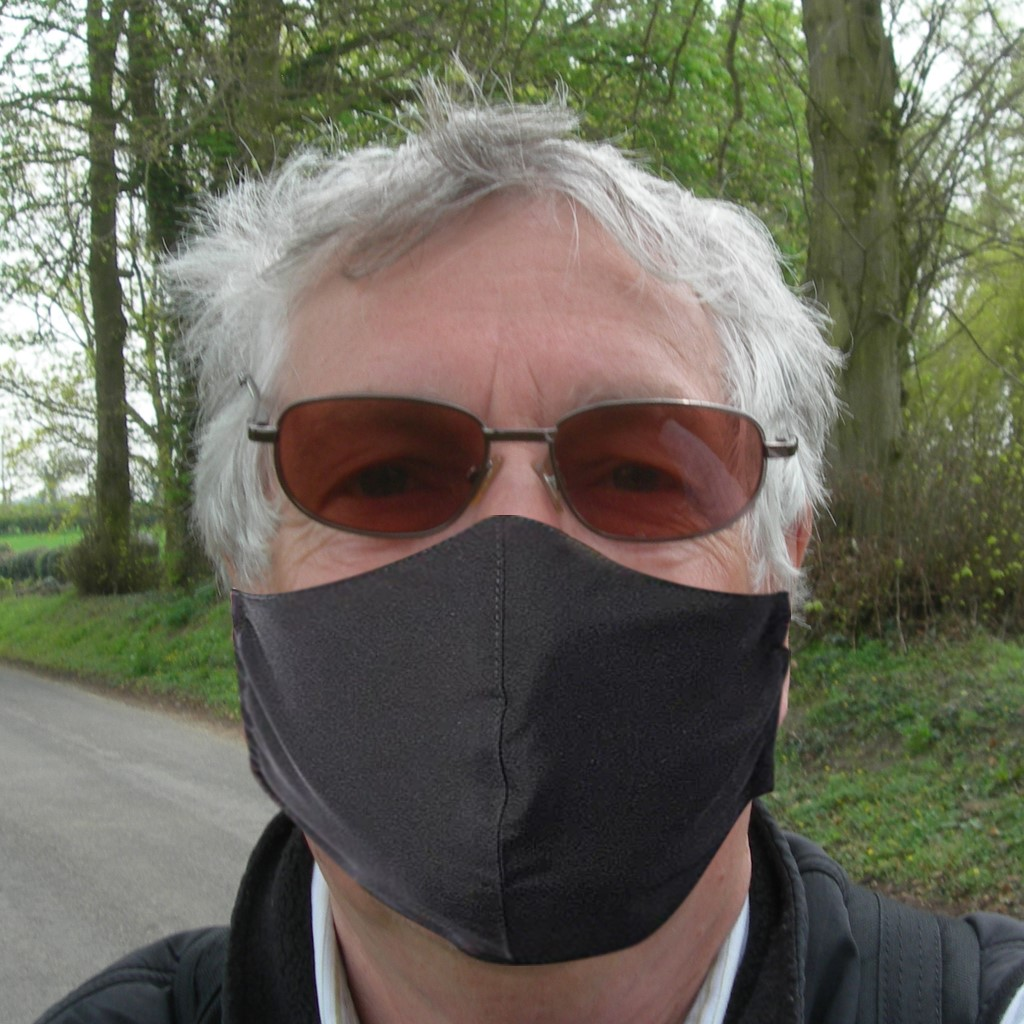con_mascara: (226, 214, 816, 966)
